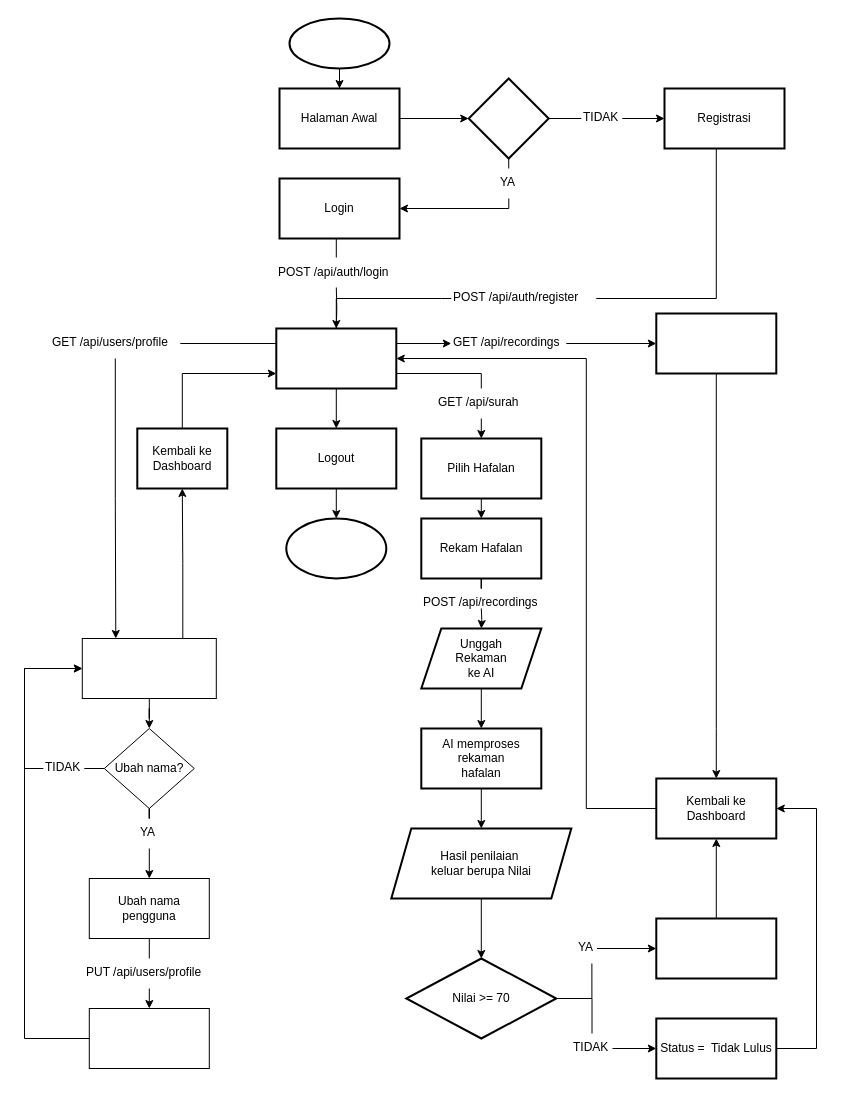
Image size: 842x1096. Some labels were removed from this diagram. The shapes that lost their labels are listed below. From the top down, each one's centre as x and y in pixels, then its label:
At [339,43]: "MULAI".
At [508,118]: "Sudah memiliki akun?".
At [336,358]: "Dashboard".
At [716,343]: "Riwayat Rekaman Hafalan".
At [336,548]: "SELESAI".
At [148,668]: "Lihat nama pengguna pada Profil".
At [716,948]: "Status = Lulus".
At [148,1038]: "Simpan nama pengguna yang baru".
